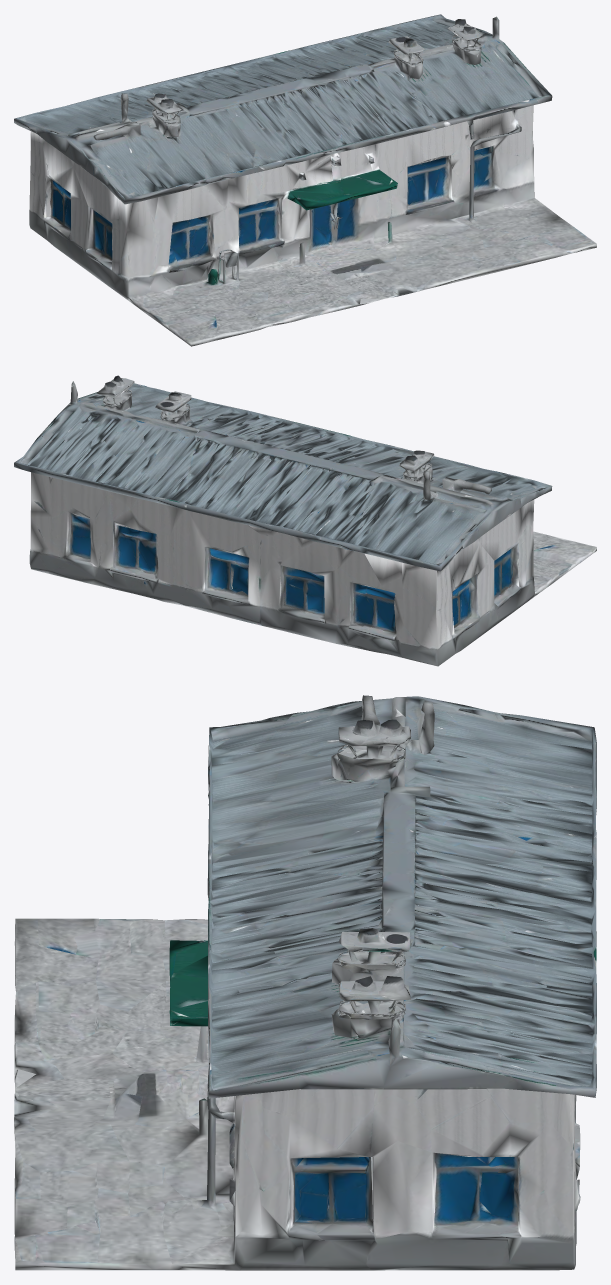
Rendered from processing-plant-lite.glb.
3 renders of one model, top to bottom at view 1: azimuth 30°, elevation 25°; view 2: azimuth 150°, elevation 25°; view 3: azimuth 270°, elevation 25°, orthographic. The views are drawn at different scales.
Bounding box in the file's own units: 1.9 × 0.6575 × 1.29.
Materials: 1 (1 with a texture image).
